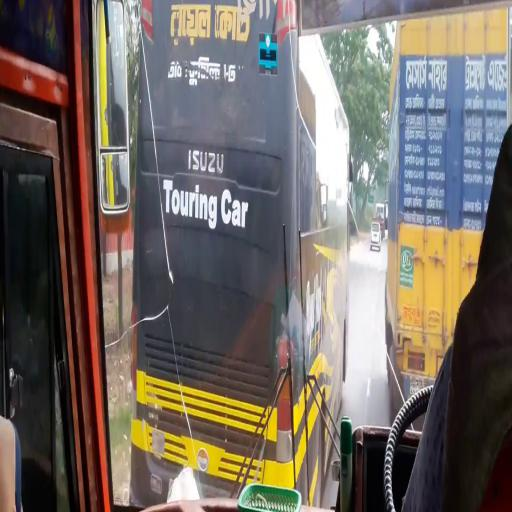bus: (132, 8, 347, 512)
car: (371, 222, 381, 249)
pickup: (387, 26, 509, 416)
